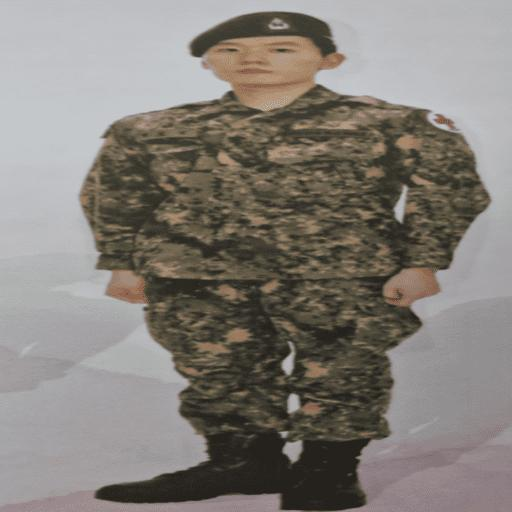korea army: (78, 10, 491, 509)
